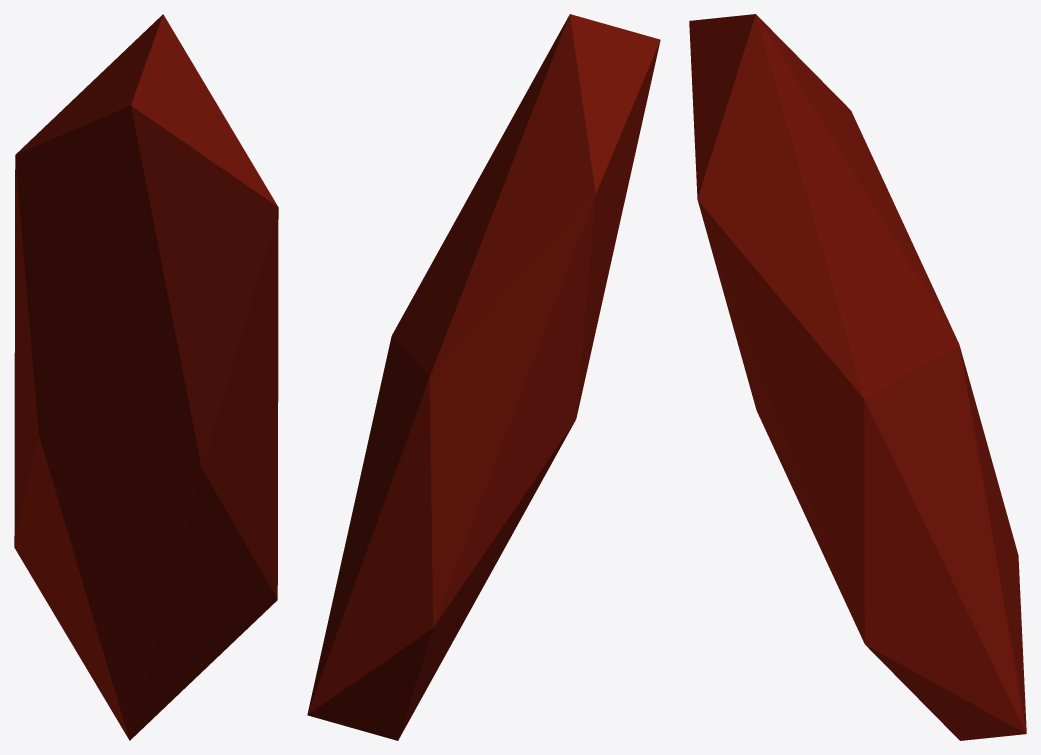
The model's file is Platonic_10.gltf.
The picture shows the model from 3 angles, left to right: view 1: azimuth 30°, elevation 25°; view 2: azimuth 150°, elevation 25°; view 3: azimuth 270°, elevation 25°; orthographic projection. The views are drawn at different scales.
Parts seen in each view (by area): view 1: Platonic_10; view 2: Platonic_10; view 3: Platonic_10.
Part boxes in pixels (x1=…): Platonic_10: x1=14, y1=14, x2=278, y2=740; Platonic_10: x1=307, y1=14, x2=660, y2=740; Platonic_10: x1=689, y1=14, x2=1026, y2=740.
Size of the model in its own units: 5.97 by 17.68 by 7.83.
